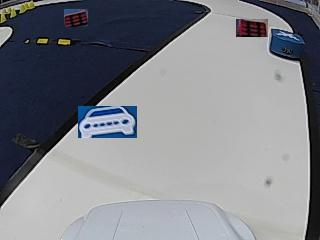prop: (270, 28, 305, 61)
